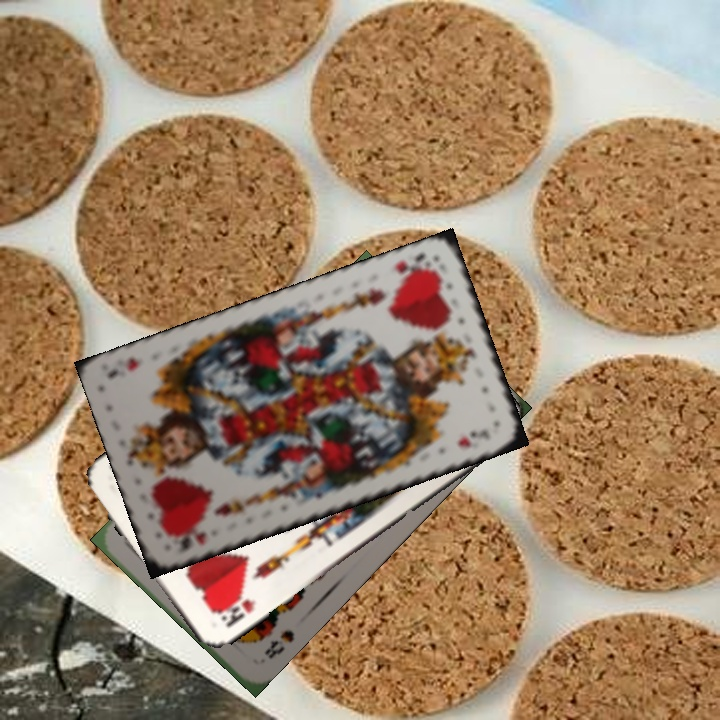HK: (390, 249, 438, 284), (214, 593, 259, 630), (174, 527, 209, 554)
S8: (260, 625, 297, 662)
